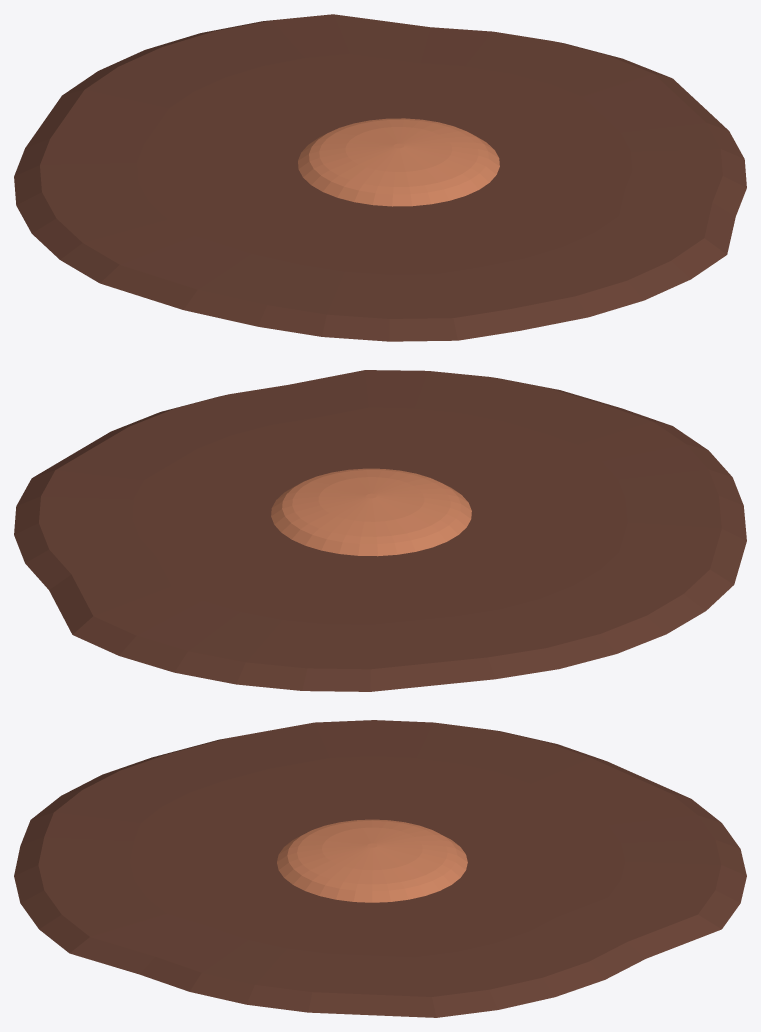
Rendered from BurntEgg.fbx.
3 renders of one model, top to bottom at view 1: azimuth 30°, elevation 25°; view 2: azimuth 150°, elevation 25°; view 3: azimuth 270°, elevation 25°, orthographic. The views are drawn at different scales.
Parts seen in each view (by area): view 1: Cylinder.001; view 2: Cylinder.001; view 3: Cylinder.001.
Boxes of the visible parts, x1=… form: Cylinder.001: x1=14, y1=14, x2=746, y2=341; Cylinder.001: x1=14, y1=370, x2=746, y2=691; Cylinder.001: x1=14, y1=720, x2=746, y2=1017.
Bounding box in the file's own units: 214 × 10.25 × 223.
